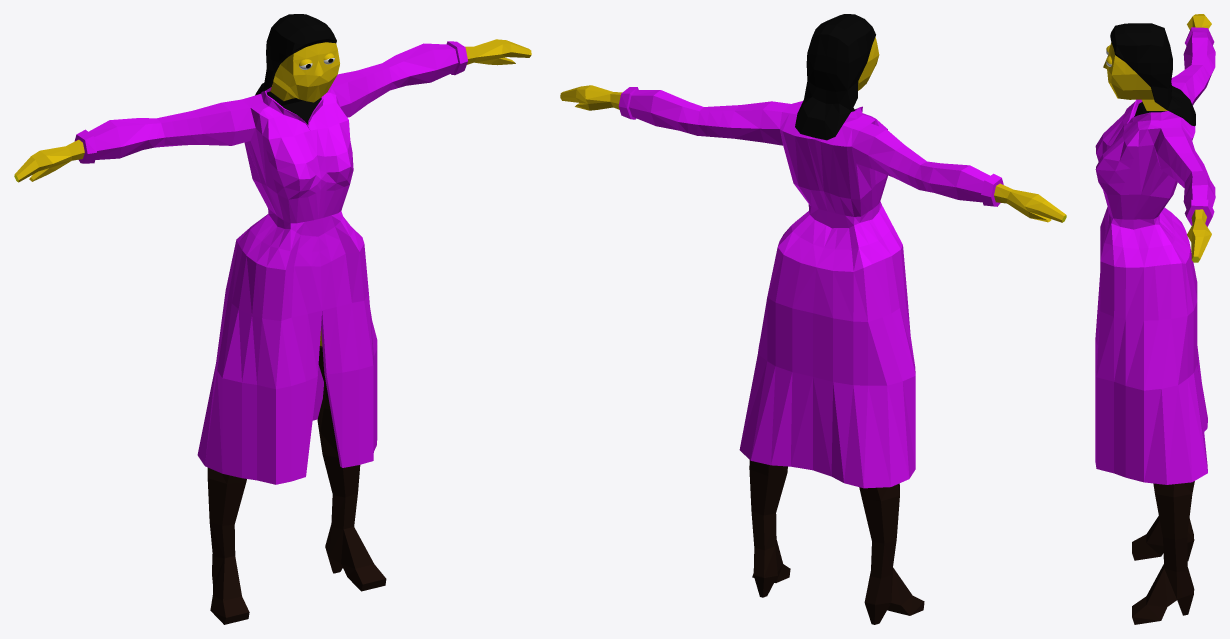
Rendered from Dom.fbx.
3 views of the same model, side by side, from view 1: azimuth 30°, elevation 25°; view 2: azimuth 150°, elevation 25°; view 3: azimuth 270°, elevation 25° (orthographic). The views are drawn at different scales.
Visible parts, largest first — view 1: Dom "vestida"; view 2: Dom "vestida"; view 3: Dom "vestida".
Boxes of the visible parts, x1,y1,x2,y2 form: Dom "vestida": [14, 14, 531, 624]; Dom "vestida": [560, 14, 1066, 624]; Dom "vestida": [1095, 14, 1215, 624].
Bounding box in the file's own units: 1.51 × 1.64 × 0.3178.
